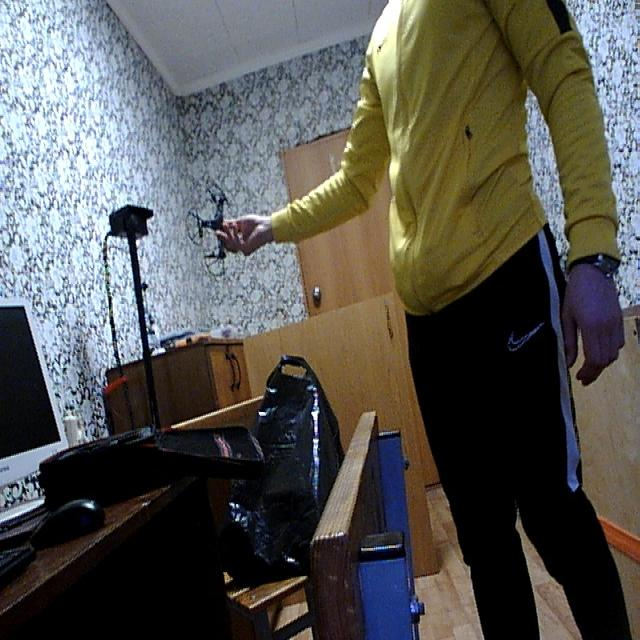drone: (180, 178, 253, 286)
